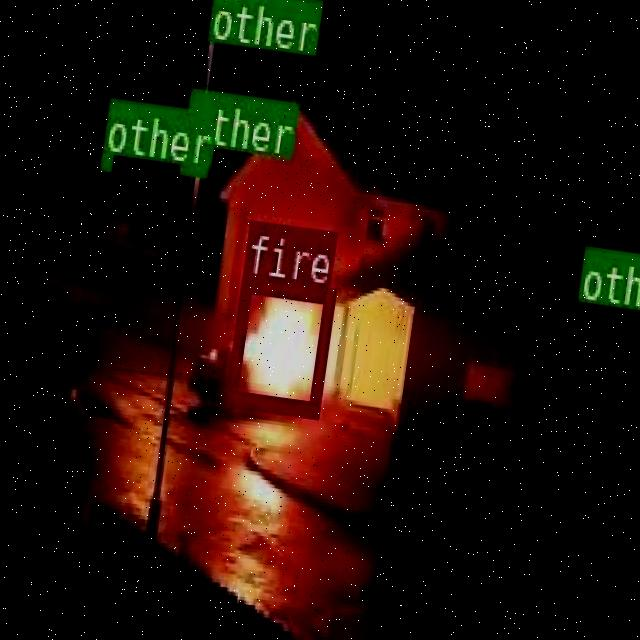fire: (224, 272, 334, 414)
